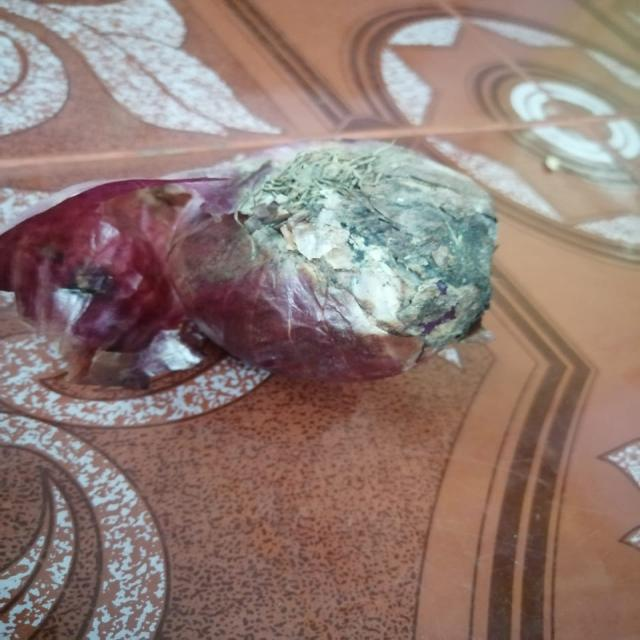rotten: (287, 186, 464, 344)
